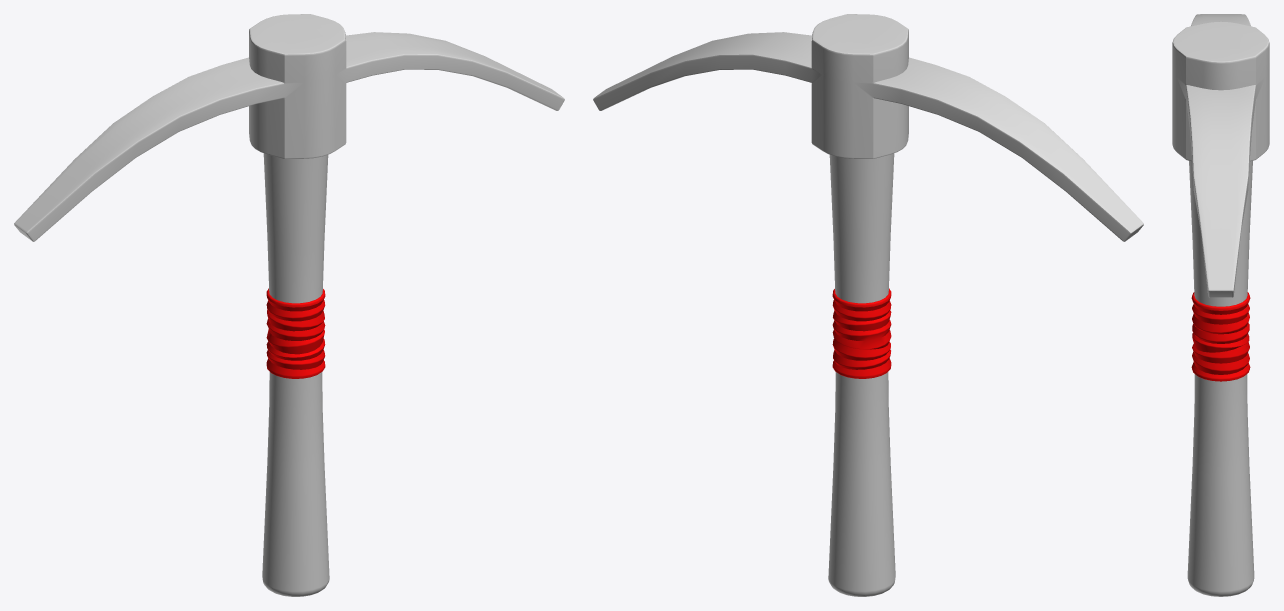
The model's file is axe.fbx.
3 views of the same model, side by side, from view 1: azimuth 30°, elevation 25°; view 2: azimuth 150°, elevation 25°; view 3: azimuth 270°, elevation 25° (orthographic).
Visible parts, largest first — view 1: pCylinder11; view 2: pCylinder11; view 3: pCylinder11.
Part boxes in pixels (x1,y1,x2,y2): pCylinder11: (14, 14, 564, 596); pCylinder11: (593, 14, 1143, 596); pCylinder11: (1172, 14, 1269, 596).
Size of the model in its own units: 12.79 by 12.5 by 2.03.
